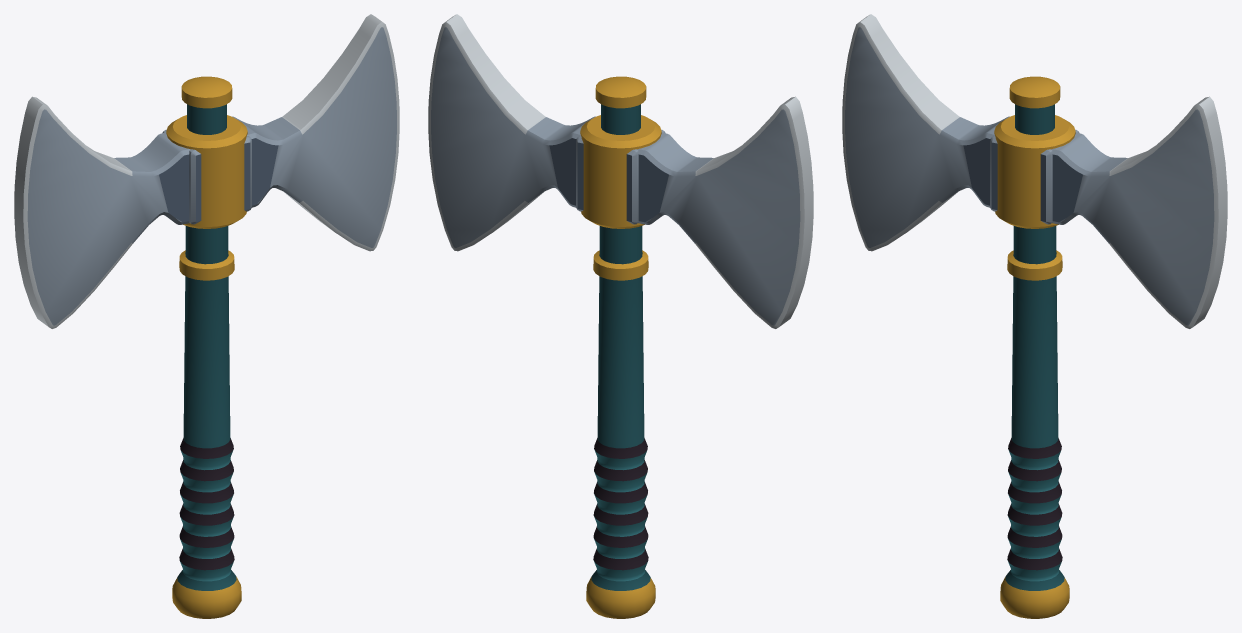
File: Axe_16.glb
3 renders of one model, left to right at view 1: azimuth 30°, elevation 25°; view 2: azimuth 150°, elevation 25°; view 3: azimuth 330°, elevation 25°, orthographic.
Visible parts, largest first — view 1: Axe_16; view 2: Axe_16; view 3: Axe_16.
Part boxes in pixels (bbox=[...]): Axe_16: bbox=[14, 14, 399, 618]; Axe_16: bbox=[428, 14, 813, 618]; Axe_16: bbox=[842, 14, 1227, 618].
Size of the model in its own units: 3.4 by 4.73 by 0.636.
